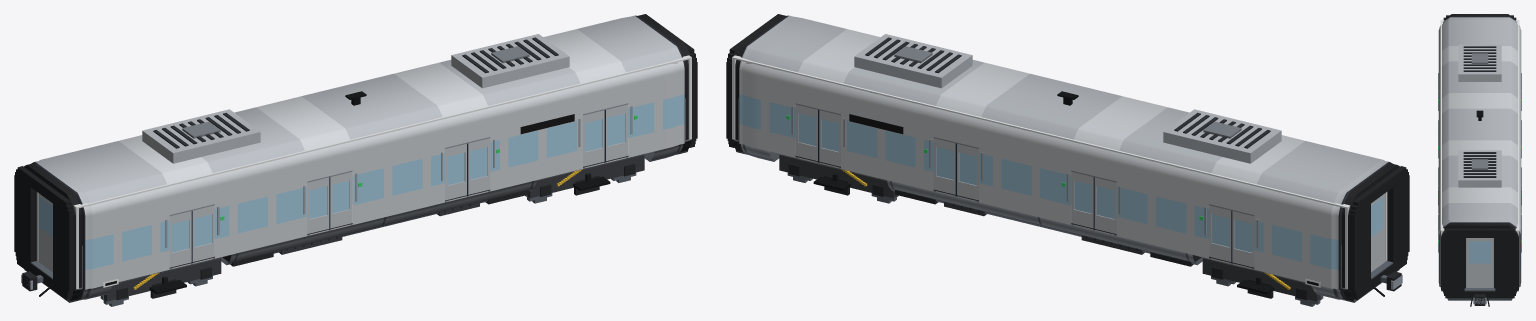
Rendered from r160_car.obj.
3 views of the same model, side by side, from view 1: azimuth 30°, elevation 25°; view 2: azimuth 150°, elevation 25°; view 3: azimuth 270°, elevation 25° (orthographic). The views are drawn at different scales.
Parts seen in each view (by area): view 1: SHELL, SHELL_roof, SHELL_diaphragm, BOGEY_REAR, BOGEY_FRONT, SHELL_ceiling, FRAME, EXTERNAL_DOOR_10_CG_DR2_TOGGLE_TL_-0.61_X, EXTERNAL_DOOR_16_CG_DR3_TOGGLE_TL_-0.61_X, EXTERNAL_DOOR_4_CG_DR1_TOGGLE_TL_-0.61_X, EXTERNAL_DOOR_17_CG_DR3_TOGGLE_TL_0.61_X, EXTERNAL_DOOR_5_CG_DR1_TOGGLE_TL_0.61_X (+6 smaller); view 2: SHELL, SHELL_roof, SHELL_diaphragm, BOGEY_REAR, BOGEY_FRONT, SHELL_ceiling, FRAME, EXTERNAL_DOOR_13_CG_DL2_TOGGLE_TL_-0.61_X, EXTERNAL_DOOR_19_CG_DL3_TOGGLE_TL_-0.61_X, EXTERNAL_DOOR_7_CG_DL1_TOGGLE_TL_-0.61_X, EXTERNAL_DOOR_20_CG_DL3_TOGGLE_TL_0.61_X, EXTERNAL_DOOR_8_CG_DL1_TOGGLE_TL_0.61_X (+6 smaller); view 3: SHELL, SHELL_diaphragm, SHELL_roof, CONNECTING_DOOR_2_CG_CF_TOGGLE_TL_0.98_Z, SHELL_ceiling, SHELL_handle, FRAME, SHELL_end, SHELL_floor, SHELL_gangway.
Boxes of the visible parts, x1,y1,x2,y2 form: SHELL: (24, 14, 692, 302); SHELL_roof: (142, 34, 569, 163); SHELL_diaphragm: (14, 14, 697, 299); BOGEY_REAR: (104, 258, 221, 301); BOGEY_FRONT: (527, 154, 644, 198); SHELL_ceiling: (23, 56, 689, 208); FRAME: (21, 156, 628, 296); EXTERNAL_DOOR_10_CG_DR2_TOGGLE_TL_-0.61_X: (307, 177, 330, 233); EXTERNAL_DOOR_16_CG_DR3_TOGGLE_TL_-0.61_X: (445, 143, 468, 200); EXTERNAL_DOOR_4_CG_DR1_TOGGLE_TL_-0.61_X: (169, 211, 192, 267); EXTERNAL_DOOR_17_CG_DR3_TOGGLE_TL_0.61_X: (468, 138, 490, 194); EXTERNAL_DOOR_5_CG_DR1_TOGGLE_TL_0.61_X: (192, 205, 214, 261); SHELL: (731, 14, 1399, 302); SHELL_roof: (854, 34, 1281, 163); SHELL_diaphragm: (726, 14, 1409, 299); BOGEY_REAR: (1202, 258, 1319, 301); BOGEY_FRONT: (779, 154, 896, 198); SHELL_ceiling: (734, 56, 1400, 208); FRAME: (795, 156, 1402, 296); EXTERNAL_DOOR_13_CG_DL2_TOGGLE_TL_-0.61_X: (1093, 177, 1116, 233); EXTERNAL_DOOR_19_CG_DL3_TOGGLE_TL_-0.61_X: (955, 143, 978, 200); EXTERNAL_DOOR_7_CG_DL1_TOGGLE_TL_-0.61_X: (1231, 211, 1254, 267); EXTERNAL_DOOR_20_CG_DL3_TOGGLE_TL_0.61_X: (933, 138, 955, 194); EXTERNAL_DOOR_8_CG_DL1_TOGGLE_TL_0.61_X: (1209, 205, 1231, 261); SHELL: (1438, 14, 1521, 300); SHELL_diaphragm: (1441, 15, 1518, 298); SHELL_roof: (1458, 44, 1501, 187); CONNECTING_DOOR_2_CG_CF_TOGGLE_TL_0.98_Z: (1466, 238, 1493, 287); SHELL_ceiling: (1440, 20, 1519, 229); SHELL_handle: (1438, 73, 1521, 252); FRAME: (1470, 294, 1489, 306); SHELL_end: (1440, 20, 1519, 287); SHELL_floor: (1466, 238, 1493, 286); SHELL_gangway: (1464, 287, 1495, 290).
Bounding box in the file's own units: 19.64 × 4.01 × 3.08.
1 material, 1 textured.
